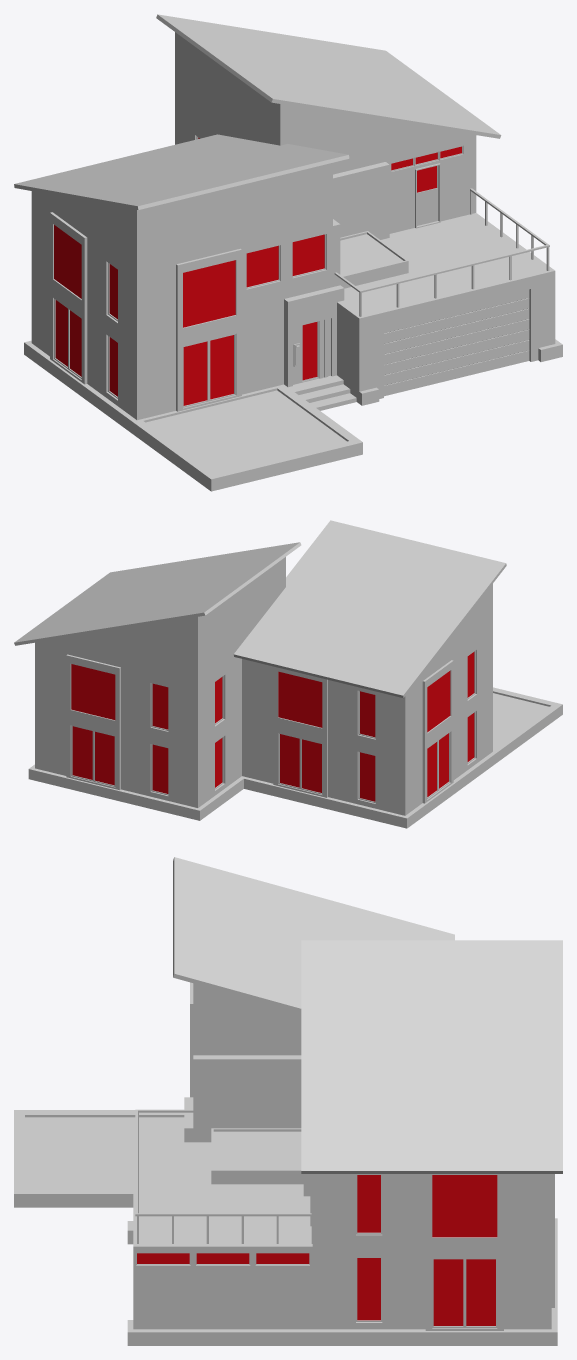
The model's file is SM_cottage_04.glb.
3 views of the same model, one above another, from view 1: azimuth 30°, elevation 25°; view 2: azimuth 150°, elevation 25°; view 3: azimuth 270°, elevation 25° (orthographic). The views are drawn at different scales.
Visible parts, largest first — view 1: cottage_04; view 2: cottage_04; view 3: cottage_04.
Part boxes in pixels (bbox=[...]): cottage_04: bbox=[14, 14, 562, 491]; cottage_04: bbox=[14, 520, 562, 828]; cottage_04: bbox=[14, 857, 562, 1345].
Size of the model in its own units: 18 by 10.41 by 18.
